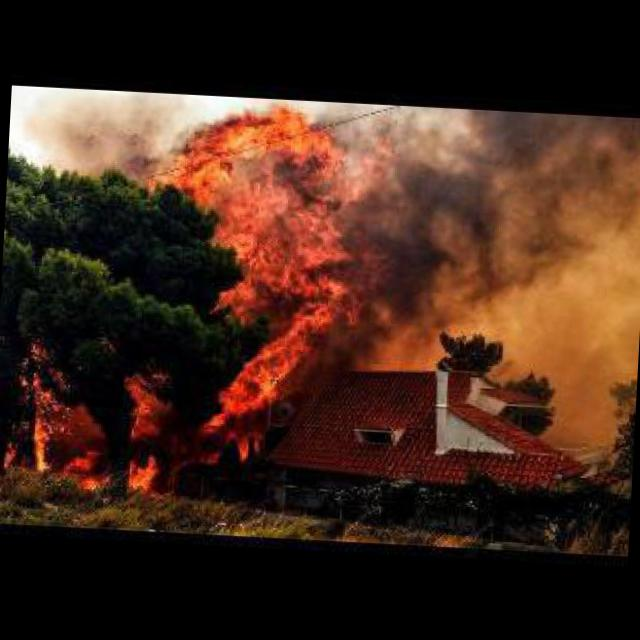fire: (11, 99, 398, 502)
